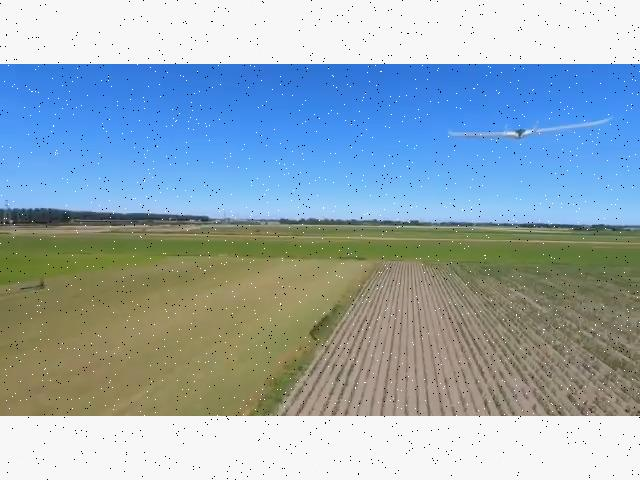Anti-Drone: (416, 92, 632, 155)
